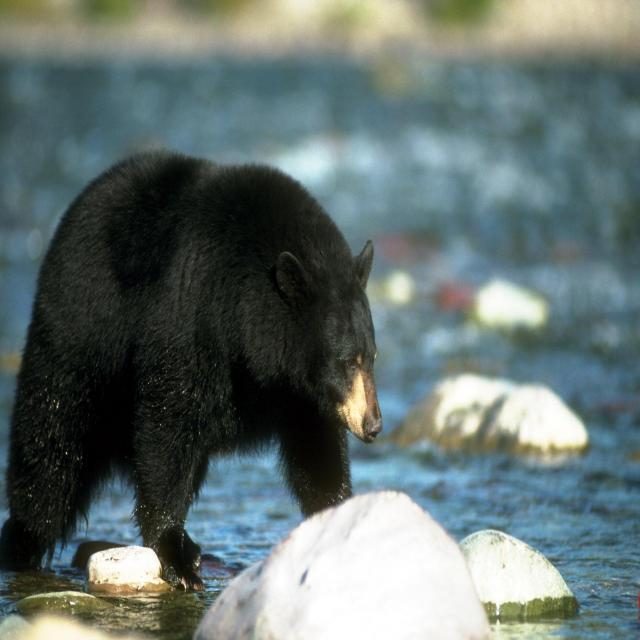Bear: (0, 151, 383, 594)
